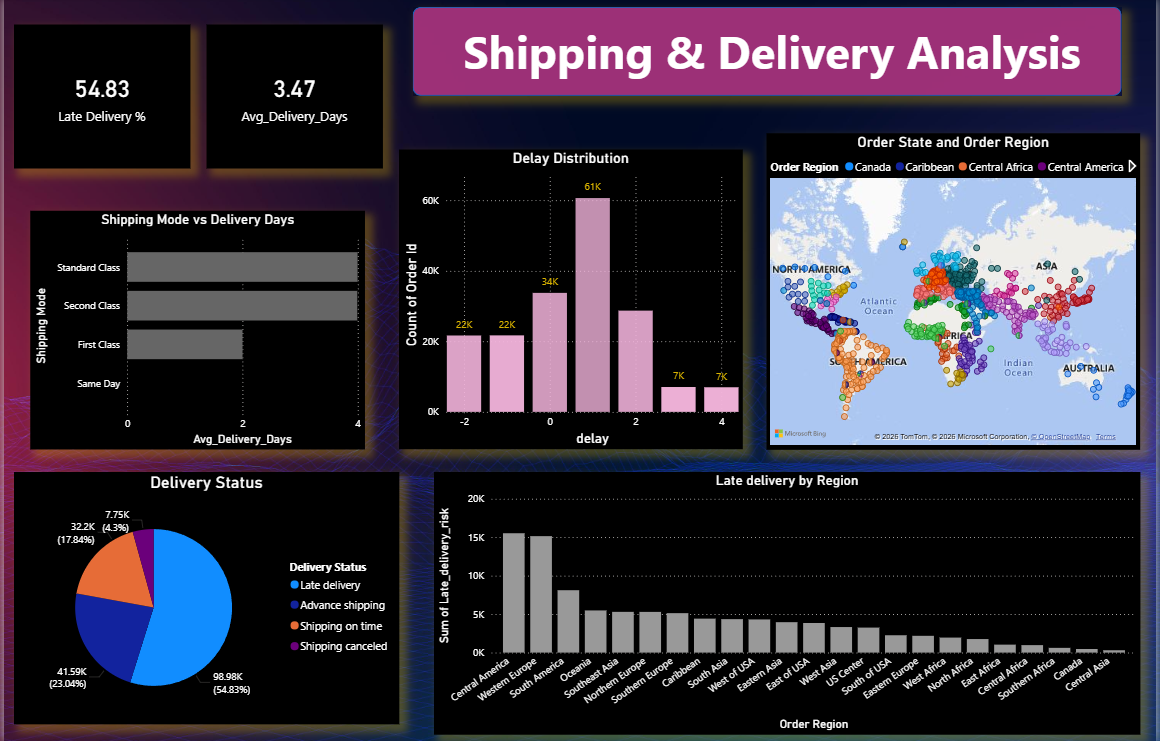

This screenshot's page, from the dashboard's own definition file:
{"tool":"powerbi","page":{"name":"Shipping & Delivery","canvas":[1420,920],"ordinal":2},"visuals":[{"type":"shape","box":[504,12.8,874.1,109.5],"z":0,"group":"g1"},{"type":"card","fields":{"Values":["cleaned_supply_chain_data.Avg_Delivery_Days"]},"box":[249.7,33.9,217.4,177.3],"z":0},{"type":"card","fields":{"Values":["cleaned_supply_chain_data.Late Delivery %"]},"box":[12.3,33.9,217.4,177.3],"z":1000},{"type":"group","id":"g1","title":"Group 2","box":[504,12.8,874.1,109.5],"z":2000},{"type":"columnChart","title":"Late delivery  by Region","fields":{"Category":["cleaned_supply_chain_data.Order Region"],"Y":["Sum(cleaned_supply_chain_data.Late_delivery_risk)"]},"box":[530.3,585.8,871,323.7],"z":3000},{"type":"barChart","title":"Shipping Mode vs Delivery Days","fields":{"Y":["cleaned_supply_chain_data.Avg_Delivery_Days"],"Category":["cleaned_supply_chain_data.Shipping Mode"]},"box":[32.4,263.6,413.1,294.4],"z":4000},{"type":"clusteredColumnChart","title":"Delay Distribution","fields":{"Y":["CountNonNull(cleaned_supply_chain_data.Order Id)"],"Category":["cleaned_supply_chain_data.delay"]},"box":[487.1,188.1,423.9,370],"z":5000},{"type":"pieChart","title":"Delivery Status","fields":{"Category":["cleaned_supply_chain_data.Delivery Status"],"Y":["CountNonNull(cleaned_supply_chain_data.Order Id)"]},"box":[12.3,585.8,474.8,311.4],"z":6000},{"type":"map","fields":{"Series":["cleaned_supply_chain_data.Order Region"],"Category":["cleaned_supply_chain_data.Order State"]},"box":[940.4,168,460.9,390],"z":7000},{"type":"textbox","box":[514.9,23.8,844.8,86.3],"z":8000,"group":"g1"}]}

Visuals, with their boxes in screenshot pixels (x1, y1, x2, y2), scaled from the page's 1420x920 canvas onto the 1160x741 screenshot:
shape: [412, 10, 1126, 99]
card - cleaned_supply_chain_data.Avg_Delivery_Days: [204, 27, 382, 170]
card - cleaned_supply_chain_data.Late Delivery %: [10, 27, 188, 170]
"Group 2" group: [412, 10, 1126, 99]
"Late delivery  by Region" columnChart: [433, 472, 1145, 733]
"Shipping Mode vs Delivery Days" barChart: [26, 212, 364, 449]
"Delay Distribution" clusteredColumnChart: [398, 152, 744, 450]
"Delivery Status" pieChart: [10, 472, 398, 723]
map - cleaned_supply_chain_data.Order Region x cleaned_supply_chain_data.Order State: [768, 135, 1145, 449]
textbox: [421, 19, 1111, 89]
